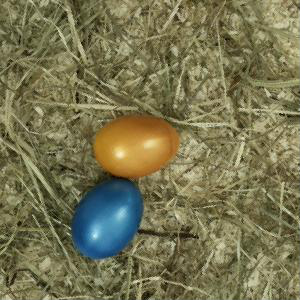egg: (70, 177, 143, 259), (93, 116, 180, 176)
